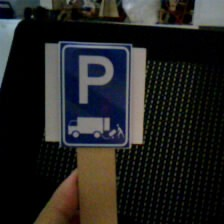load: (52, 37, 145, 153)
